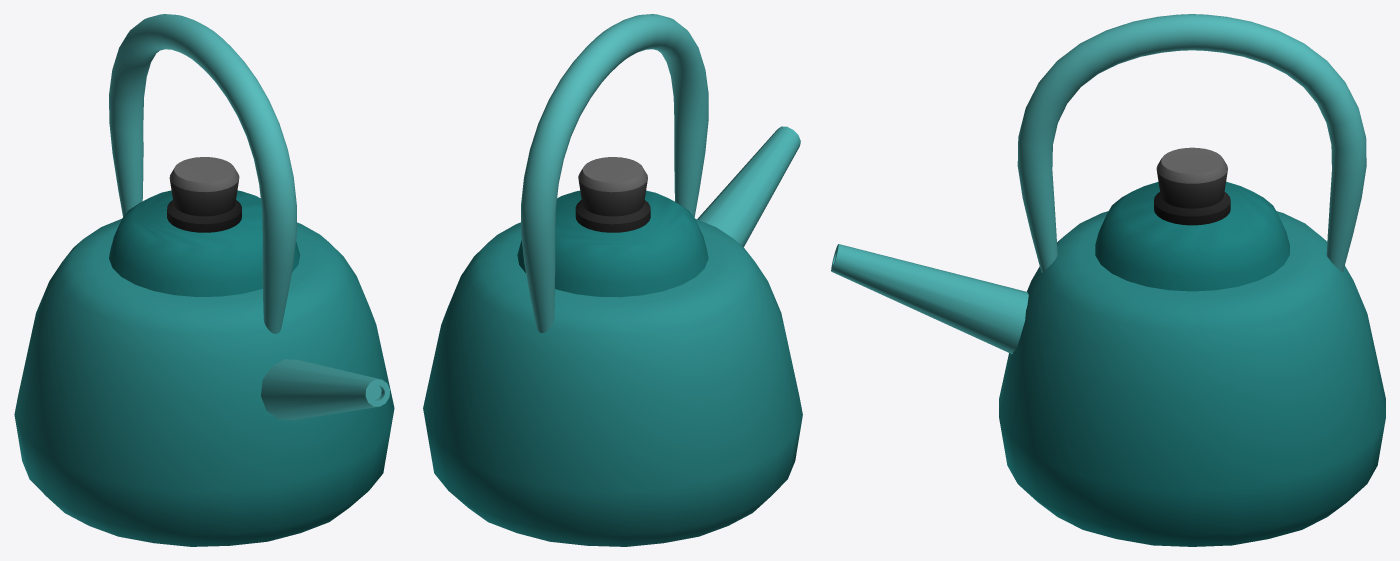
File: Tea Pot_6.fbx
The picture shows the model from 3 angles, left to right: view 1: azimuth 30°, elevation 25°; view 2: azimuth 150°, elevation 25°; view 3: azimuth 270°, elevation 25°; orthographic projection. The views are drawn at different scales.
Parts seen in each view (by area): view 1: Tea Pot_6, Tea Pot_6 Top; view 2: Tea Pot_6, Tea Pot_6 Top; view 3: Tea Pot_6, Tea Pot_6 Top.
Part boxes in pixels (x1=…): Tea Pot_6: x1=14, y1=14, x2=394, y2=546; Tea Pot_6 Top: x1=109, y1=157, x2=299, y2=296; Tea Pot_6: x1=423, y1=14, x2=802, y2=546; Tea Pot_6 Top: x1=517, y1=157, x2=708, y2=297; Tea Pot_6: x1=831, y1=14, x2=1385, y2=546; Tea Pot_6 Top: x1=1095, y1=147, x2=1289, y2=291.
Size of the model in its own units: 0.2107 by 0.2751 by 0.3.
Materials: 1 (1 with a texture image).
